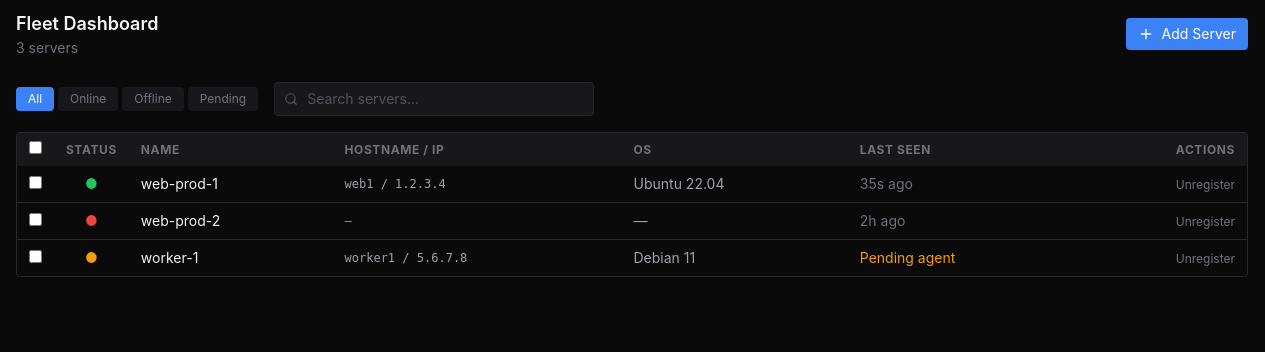
Test case: DashboardPage › toggles individual row checkbox selection and deselection (line 81)
Note: Select the first row
Click the checkbox next to "web-prod-1": (36,182) top-left (29, 176), bottom-right (42, 189)
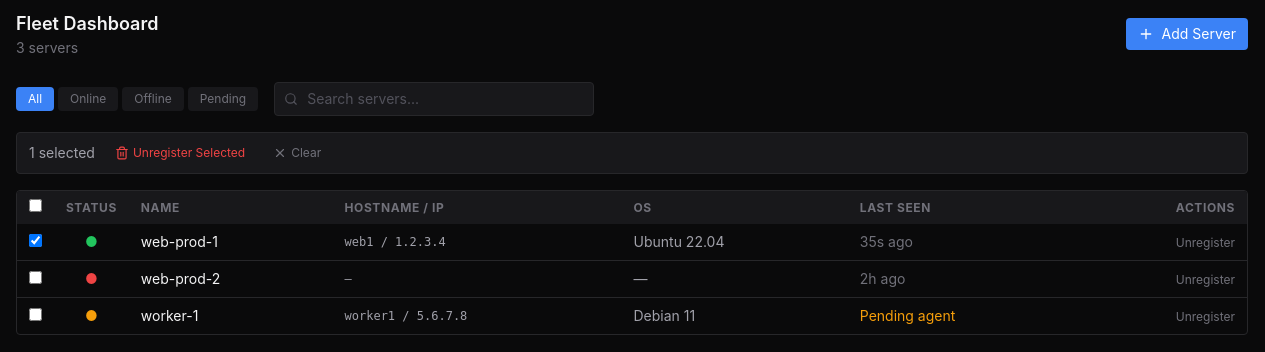
expect the text "1 selected" is shown: met, box top-left (29, 143), bottom-right (95, 163)
Click the checkbox next to "web-prod-1": (36,240) top-left (29, 234), bottom-right (42, 247)
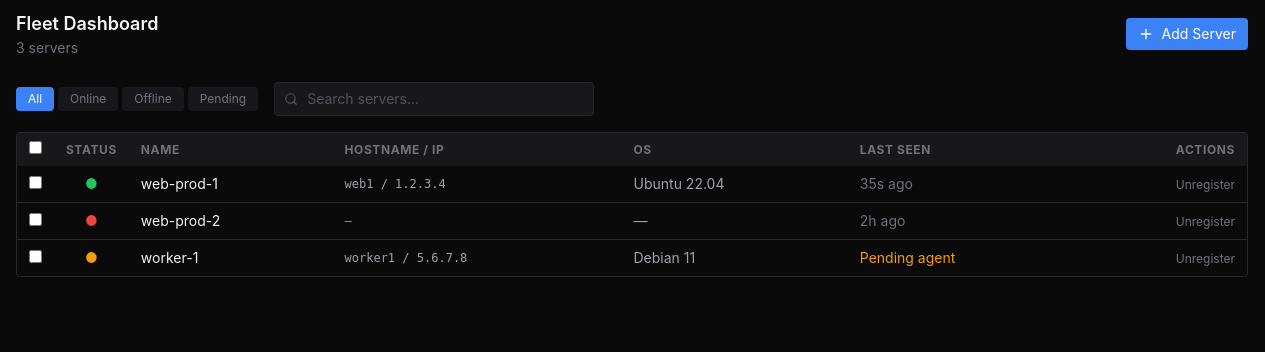
expect the text "1 selected" is gone: met
